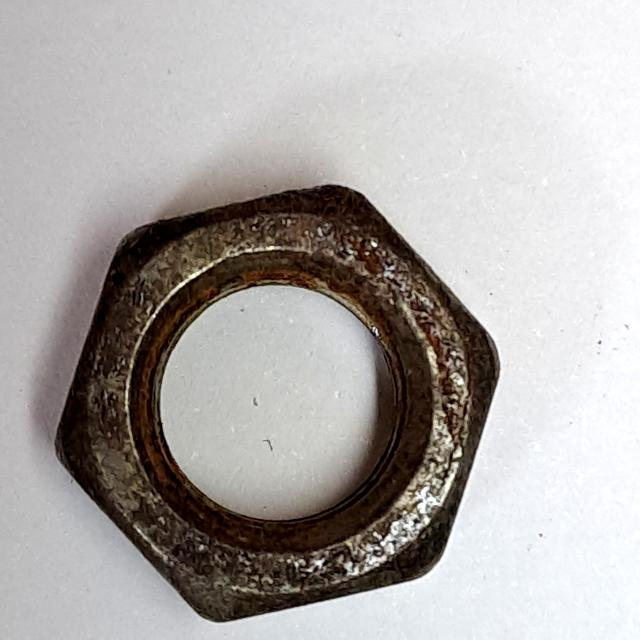Rust: (40, 175, 514, 635)
